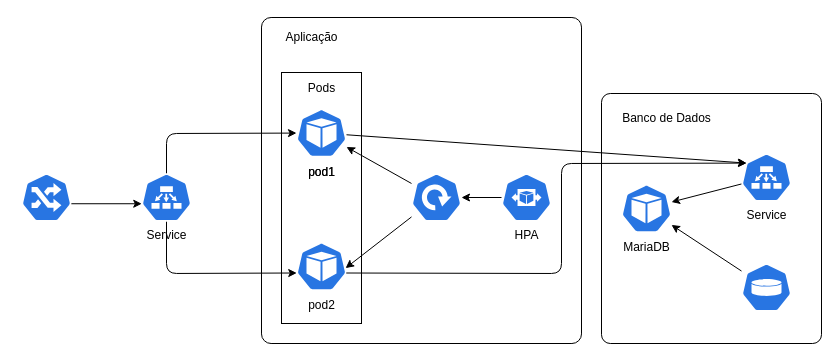
Image size: 839x361. Some labels were removed from this diagram. The shapes that lost their labels are listed below. From the top down, each one's centre as x and y in pixels, then its label:
the point at 46,197: Requisição
the point at 436,197: Deployment
the point at 766,287: Volume
